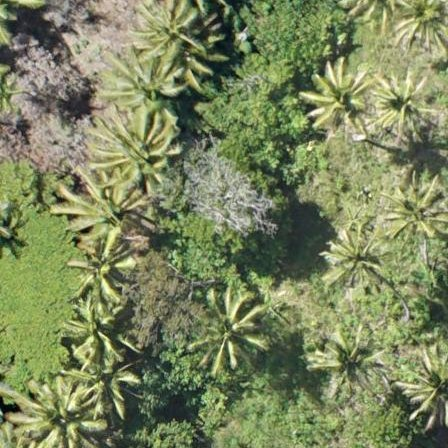palm_tree: (96, 101, 190, 202), (17, 371, 101, 448), (99, 48, 189, 118), (304, 57, 378, 136), (193, 289, 267, 368), (322, 220, 391, 293), (63, 233, 135, 301), (381, 176, 448, 245), (370, 69, 433, 135), (313, 333, 379, 396), (133, 1, 212, 50), (386, 1, 448, 54), (403, 359, 448, 419)
